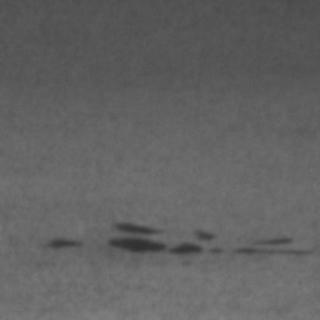inclusion: (103, 210, 315, 260), (35, 228, 81, 255)
